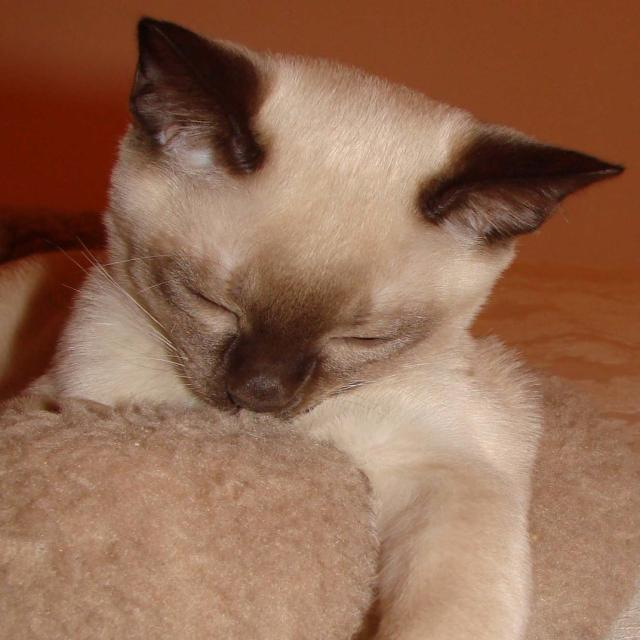Cat: (1, 10, 623, 639)
